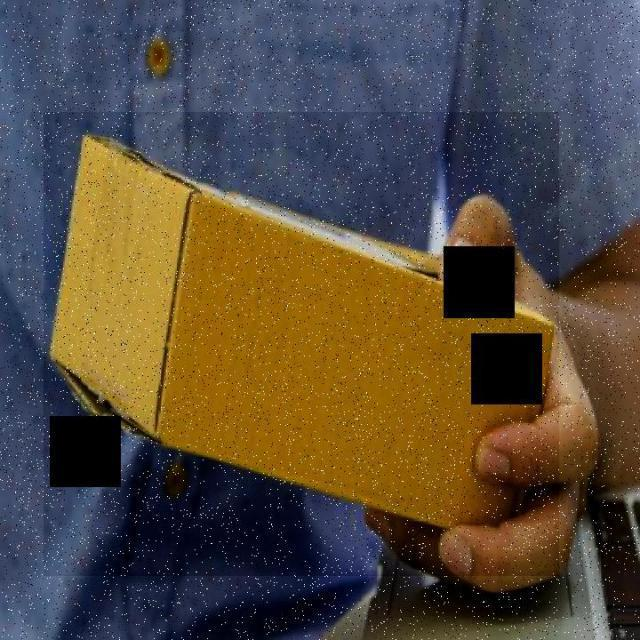box: (43, 112, 560, 576)
